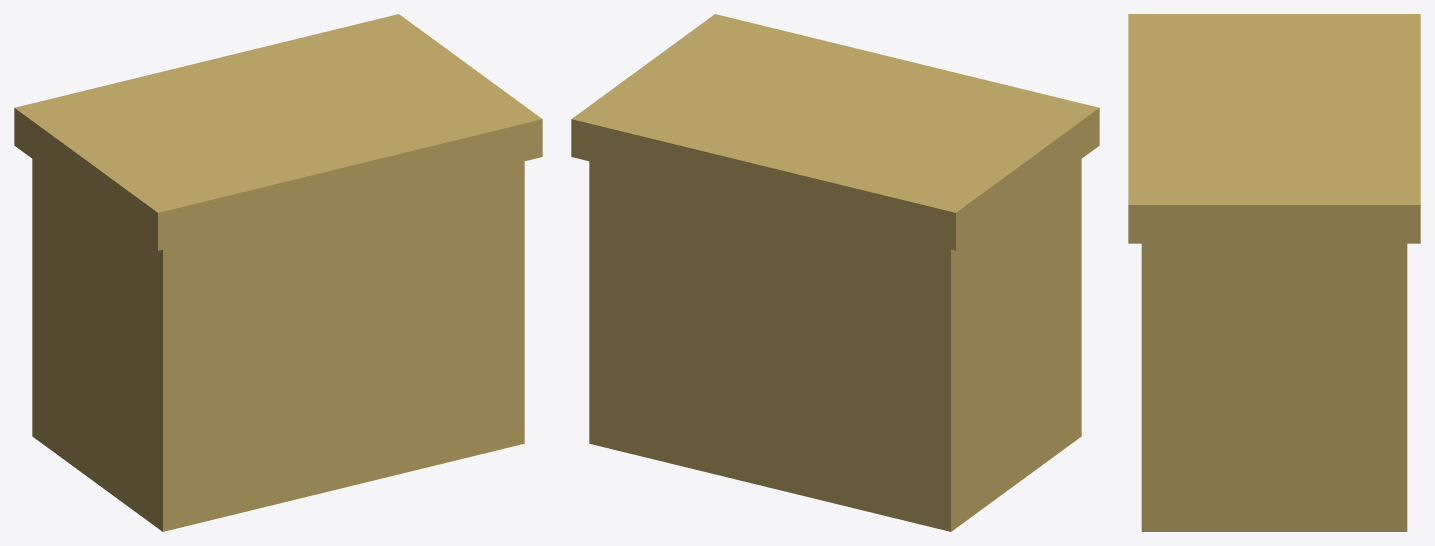
File: Building_Chest.fbx
3 views of the same model, side by side, from view 1: azimuth 30°, elevation 25°; view 2: azimuth 150°, elevation 25°; view 3: azimuth 270°, elevation 25° (orthographic).
Visible parts, largest first — view 1: Chest; view 2: Chest; view 3: Chest.
Boxes of the visible parts, x1,y1,x2,y2 form: Chest: (14,14,542,531); Chest: (571,14,1099,531); Chest: (1128,14,1420,531).
Size of the model in its own units: 0.85 by 0.69 by 0.55.
